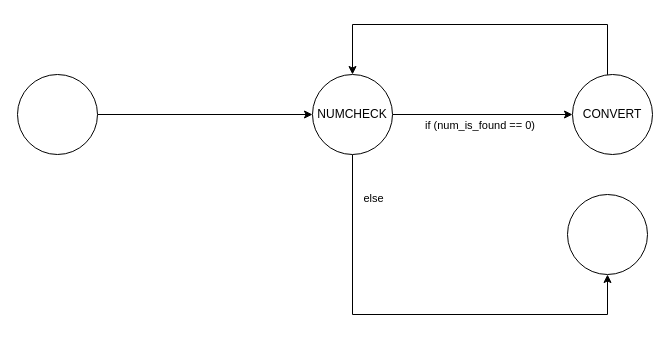
This 670x340 diagram has some shape labels left out. The shapes that lost their labels are listed below. From the top down, each one's centre as x and y in pixels, then its label:
At [57,114]: "START".
At [607,234]: "END".
